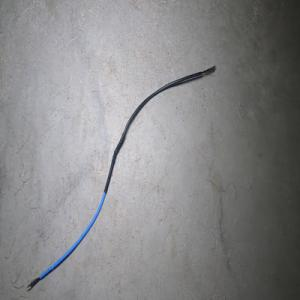Wire: (26, 64, 216, 291)
